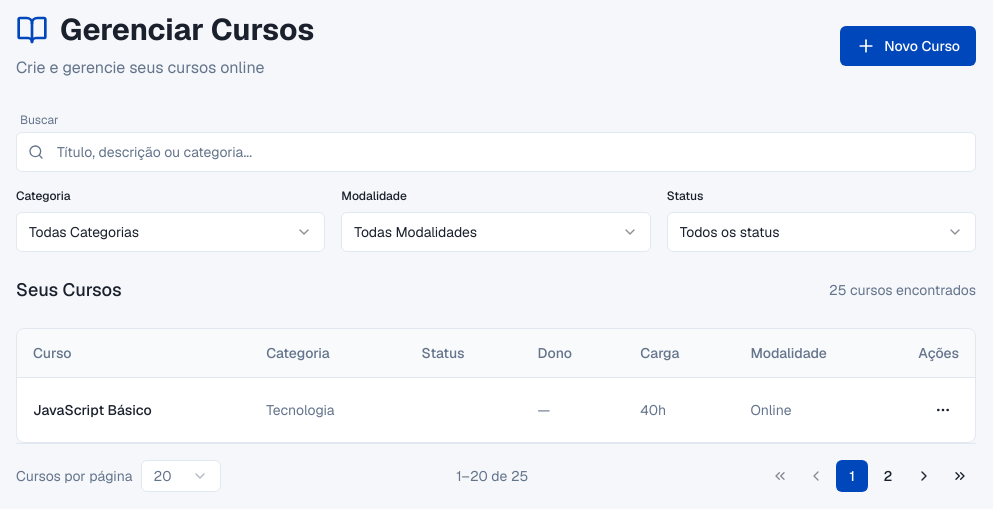
Test: Integration - Courses page › table pagination › moves between pages and writes the page to the URL
The width and height of the screenshot is (993, 509).
Expected: the text "JavaScript Básico" is shown, x1=33 y1=400 x2=152 y2=420
Expected: the text "1–20 de 25" is shown, x1=456 y1=466 x2=528 y2=486
Click the button named "Próxima página" at (924, 476), box x1=908 y1=460 x2=940 y2=492
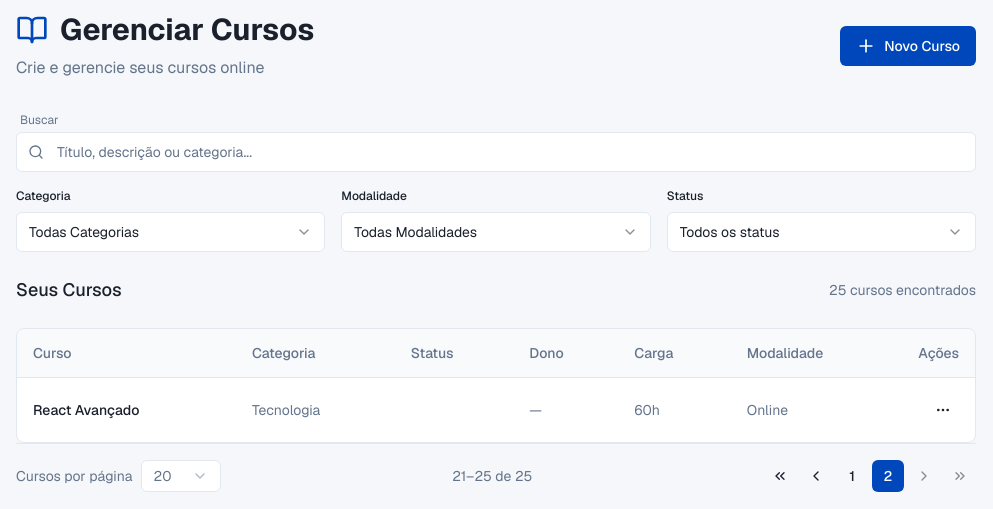
Expected: the text "React Avançado" is shown, x1=33 y1=400 x2=139 y2=420
Expected: the button named "Última página" is disabled, x1=944 y1=460 x2=976 y2=492
Click the button named "Primeira página" at (780, 476), box x1=764 y1=460 x2=796 y2=492
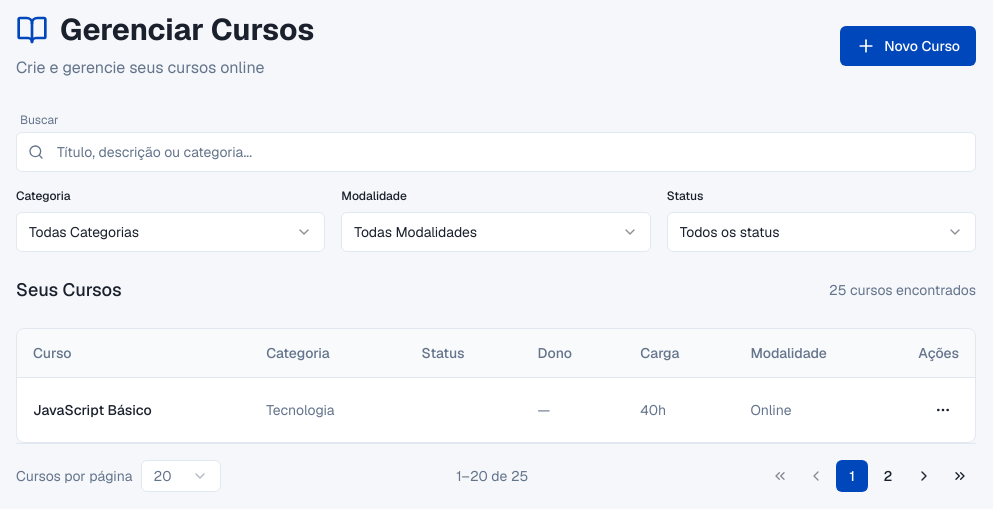
Expected: the text "JavaScript Básico" is shown, x1=33 y1=400 x2=152 y2=420
